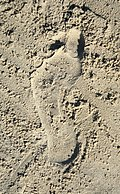human_foot_print: (31, 28, 80, 162)
